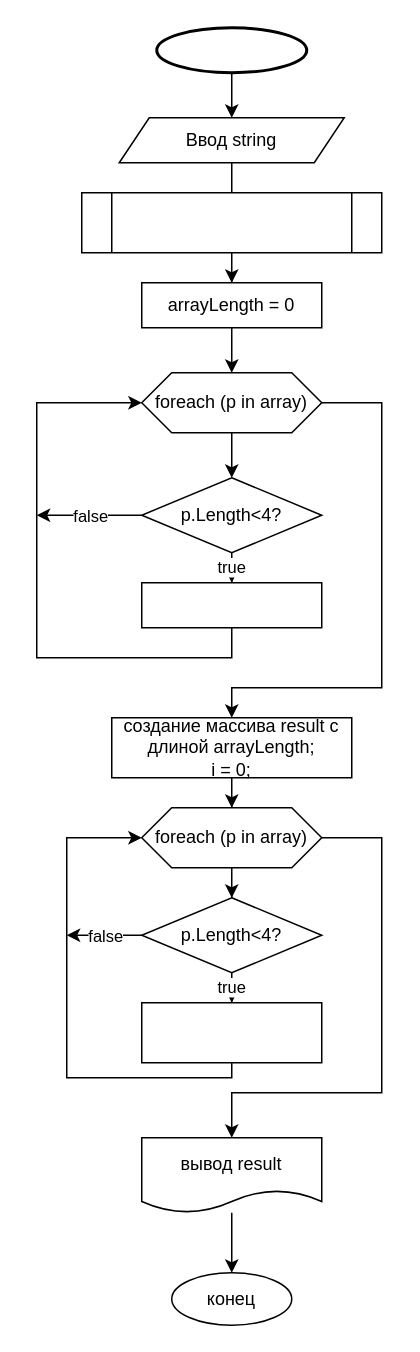
This 420x1352 diagram has some shape labels left out. Each missing label, with the centre of its shape:
arrayLength++: point (231, 604)
result[i] = p; i++;: point (231, 1032)
начало: point (231, 50)
превращение string в array: point (231, 222)
